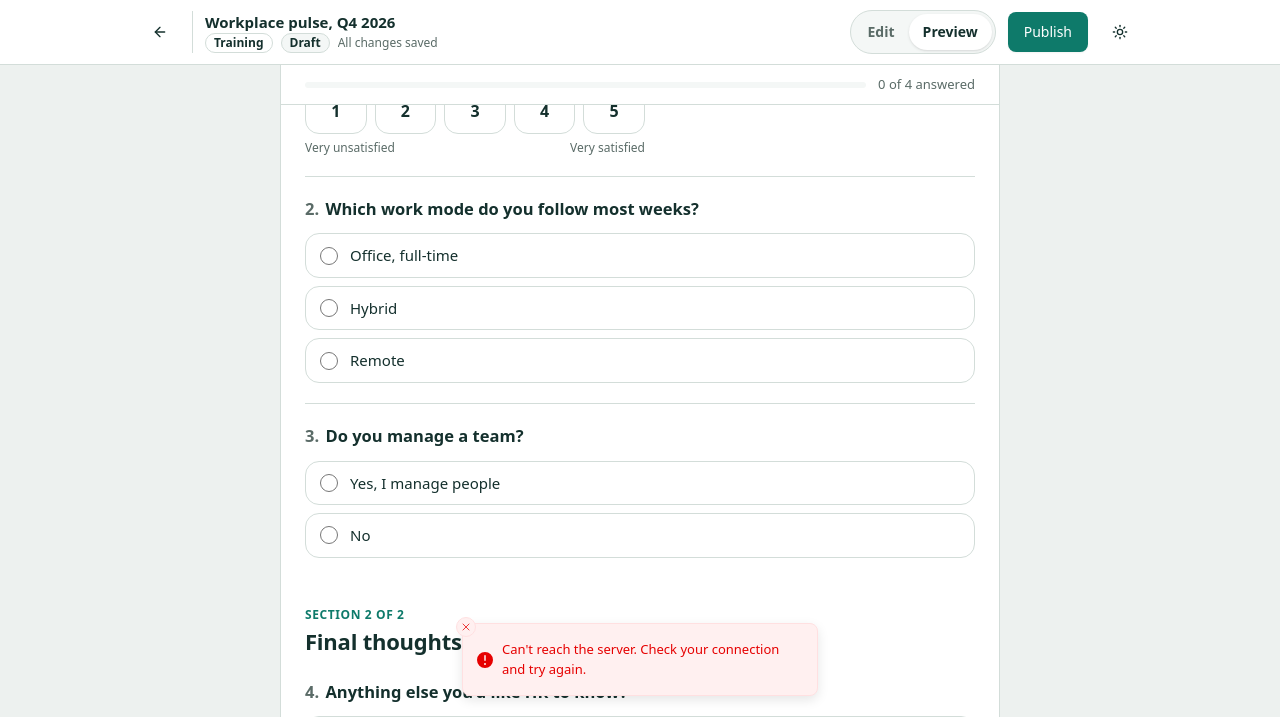
Scenario: Preview of a training › scores an attempt with the draft answer key and offers a retake
This screenshot has width=1280, height=717.
(page scrolled)
expect the button "Publish" is shown: met, box [1008,12,1088,52]
Click the radio button labelled "Remote". click: (329, 360)
box: [320,352,338,370]
(page scrolled)
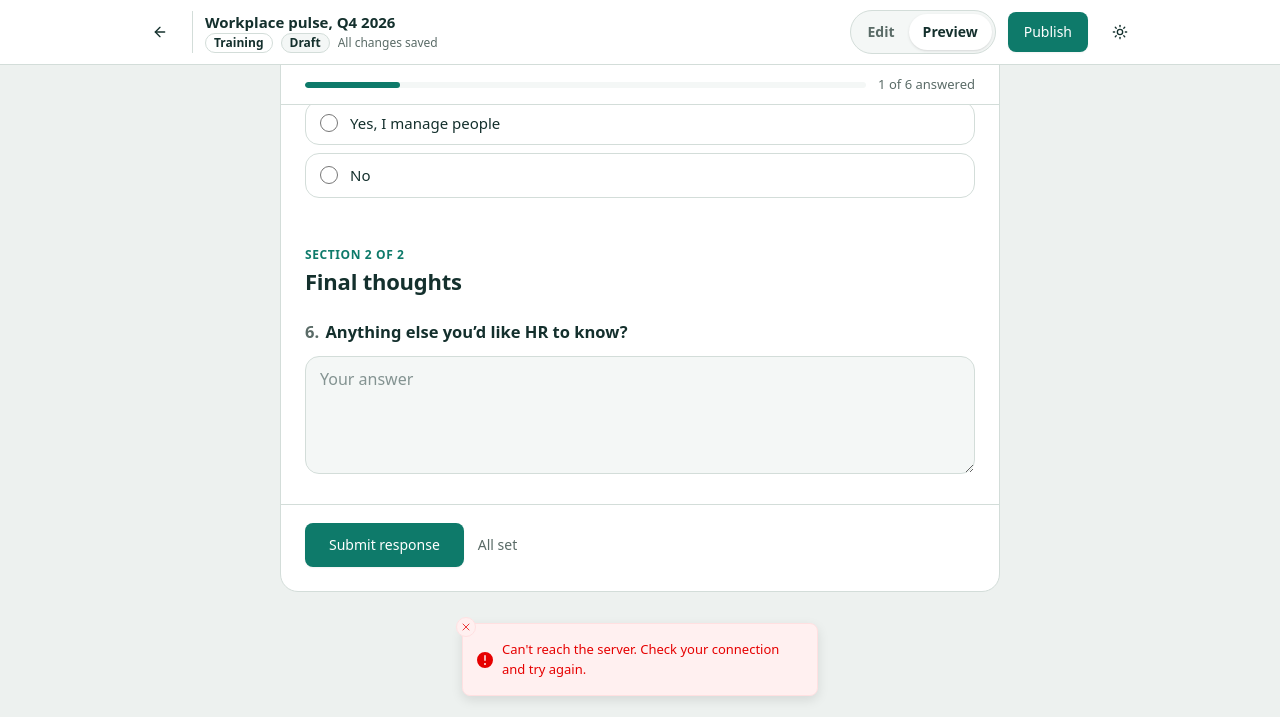
Click the button "Submit response". click: (384, 545)
box: [305,523,464,567]
(page scrolled)
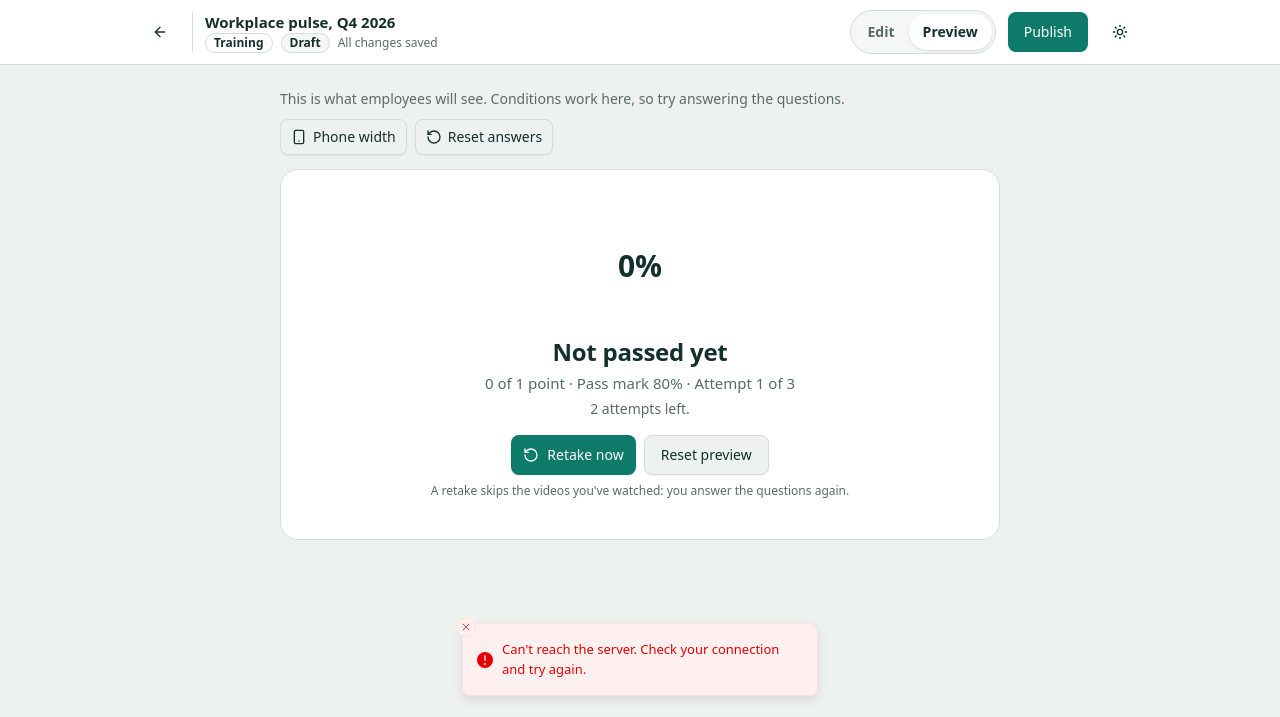
expect the heading "Not passed yet" is shown: met, box [552,335,728,368]
expect the picture named "Score 0%" is shown: met, box [584,210,696,322]
expect the text "0 of 1 point · Pass mark 80% · Attempt 1 of 3" is shown: met, box [485,373,795,393]
Click the button "Retake now". click: (574, 454)
box: [511,434,636,474]
(page scrolled)
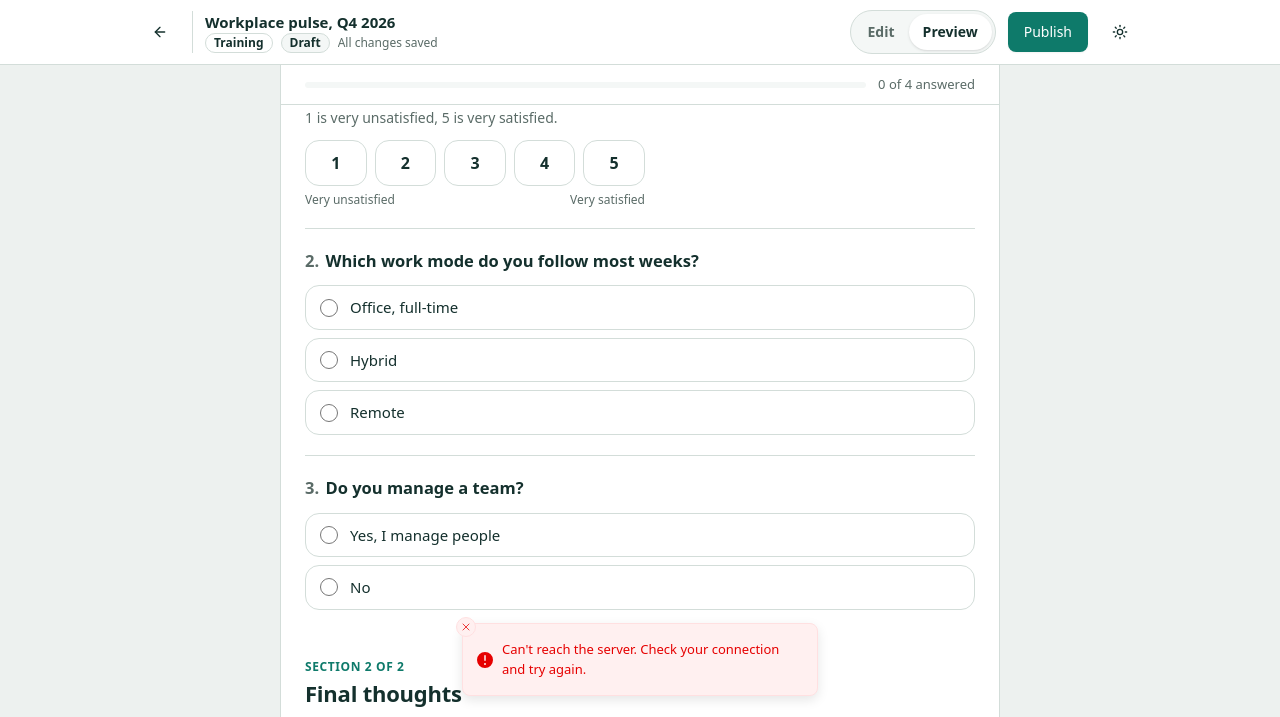
Click the radio button labelled "Hybrid". click: (329, 360)
box: [320,351,338,369]
(page scrolled)
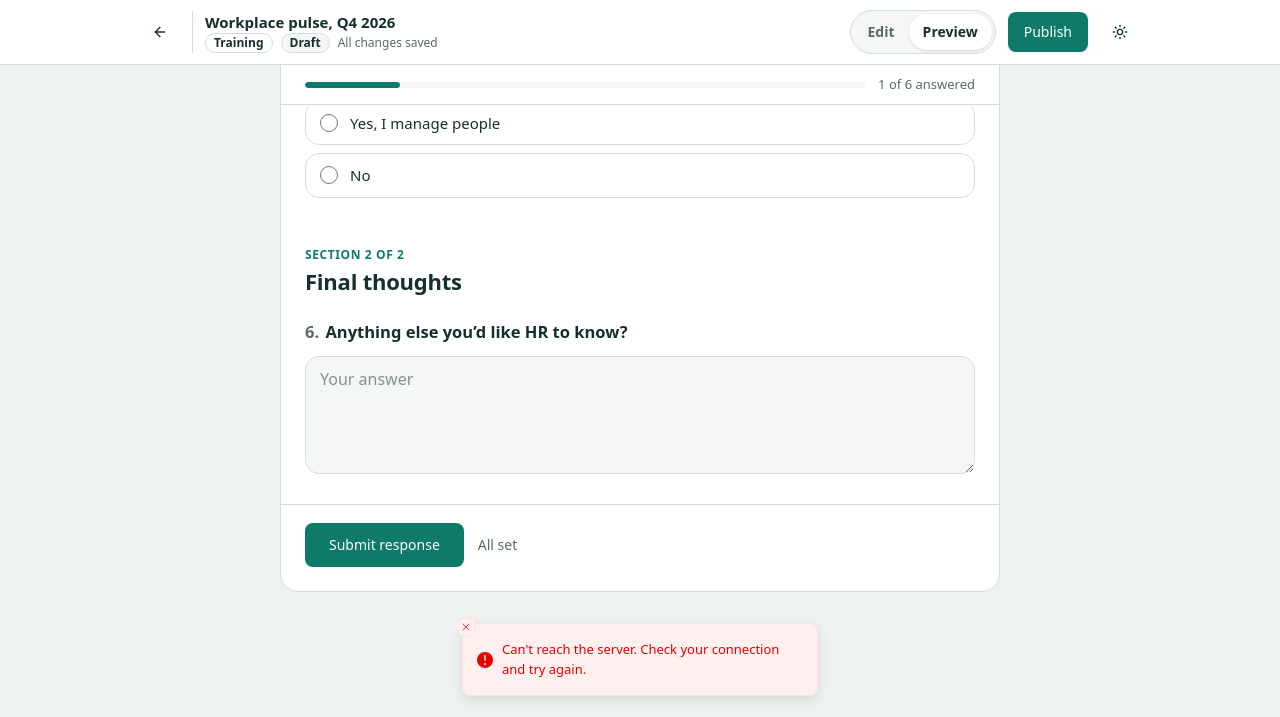
Click the button "Submit response". click: (384, 545)
box: [305,523,464,567]
(page scrolled)
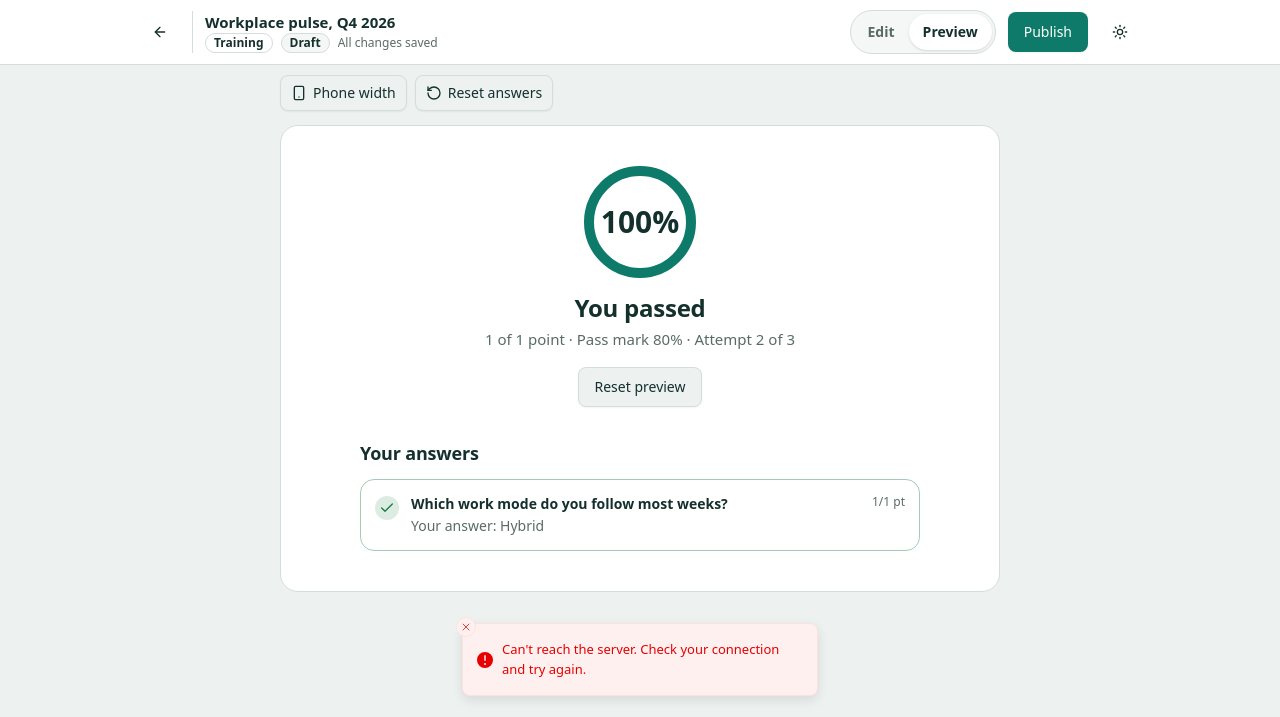
expect the button "Retake now" is not shown: met
expect the heading "You passed" is shown: met, box [574,291,706,324]
expect the text "Your answer: Hybrid" is shown: met, box [411,516,544,534]
